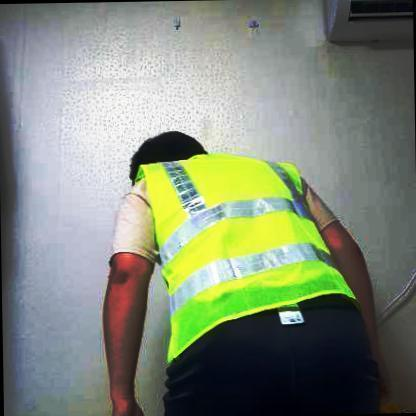vest: (129, 150, 366, 377)
